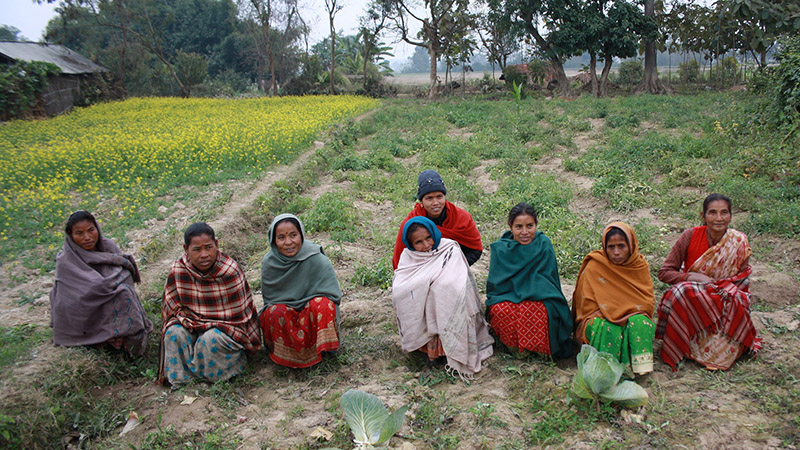human: (657, 189, 755, 387), (381, 217, 487, 389), (159, 219, 262, 392), (481, 202, 573, 376), (49, 207, 148, 368), (577, 216, 654, 398), (263, 206, 344, 365), (389, 166, 488, 268)
